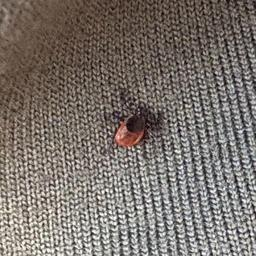Ixodes scapularis: (107, 96, 162, 155)
